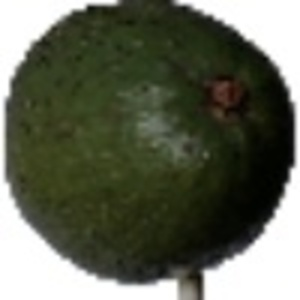abacate: (5, 2, 294, 280)
